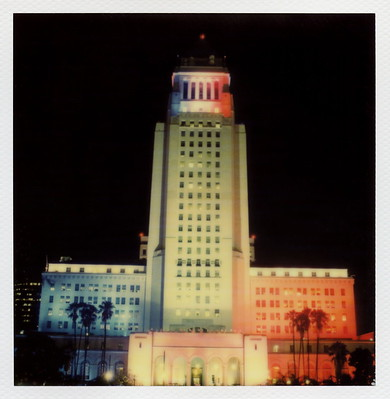low: (143, 60, 253, 341)
